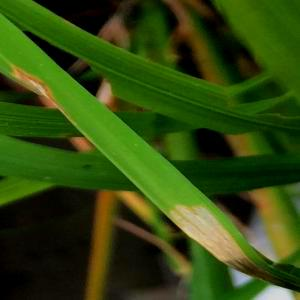1 RiceBlast: (10, 56, 62, 106)
